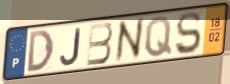B: (85, 20, 114, 67)
D: (27, 28, 56, 74)
J: (58, 27, 82, 67)
N: (114, 15, 145, 65)
Q: (144, 15, 173, 59)
S: (174, 10, 203, 57)
